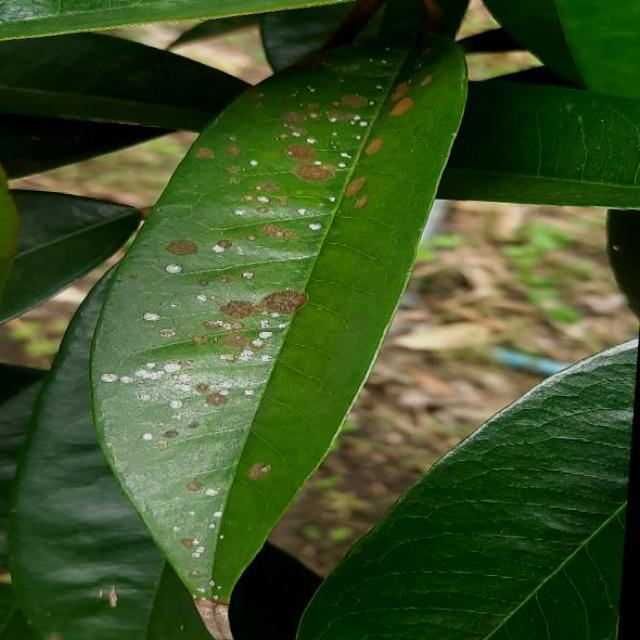Algal Leaf Spot: (58, 0, 488, 640)
